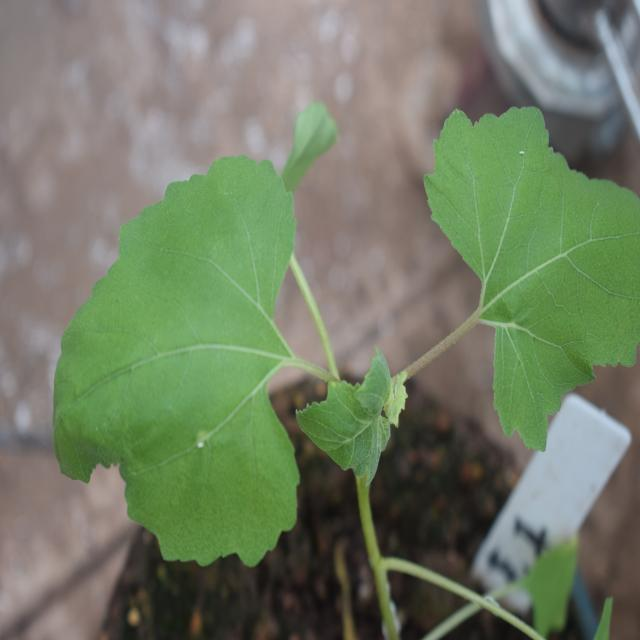cocklebur: (39, 105, 634, 523)
